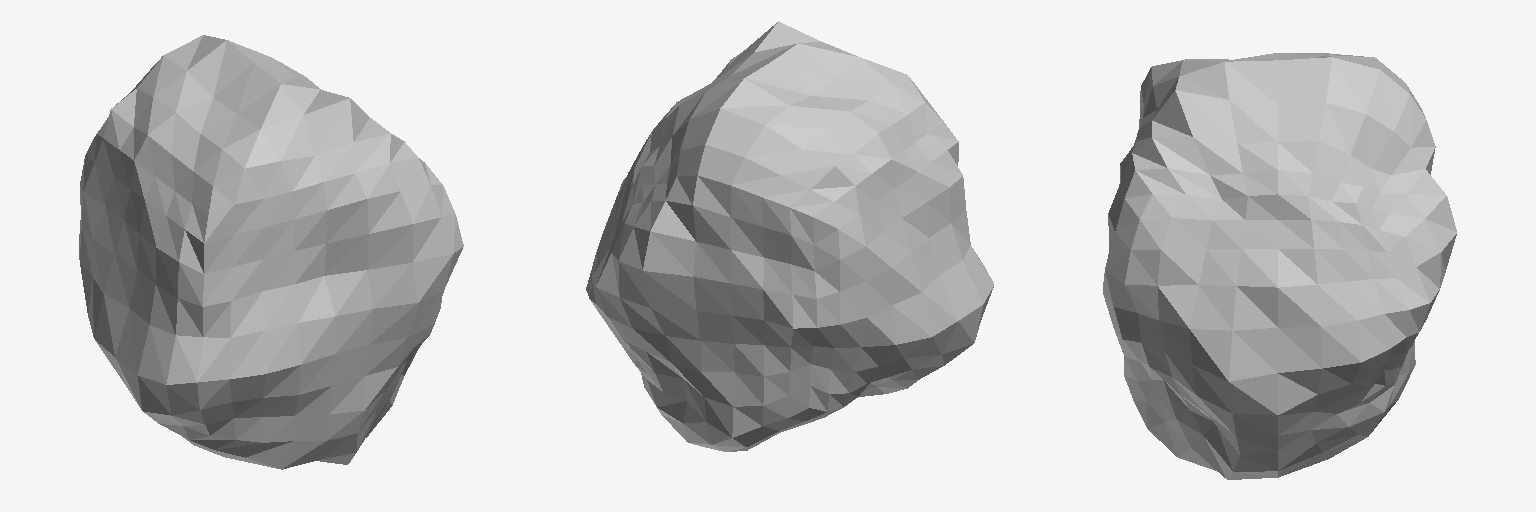
3 renders of one model, left to right at view 1: azimuth 30°, elevation 25°; view 2: azimuth 150°, elevation 25°; view 3: azimuth 270°, elevation 25°, orthographic.
Parts seen in each view (by area): view 1: defaultMaterial; view 2: defaultMaterial; view 3: defaultMaterial.
Part boxes in pixels (x1,y1,x2,y2): defaultMaterial: (79,35,463,469); defaultMaterial: (586,21,993,451); defaultMaterial: (1103,53,1456,479).
Bounding box in the file's own units: 7.82 × 8.84 × 7.2.